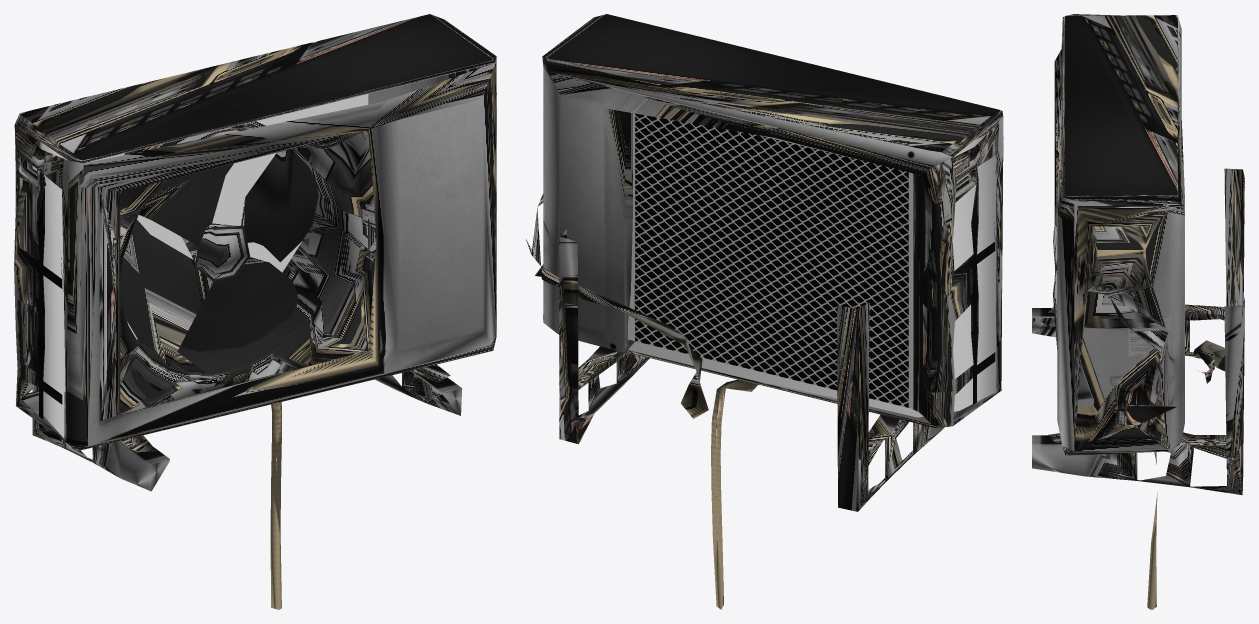
The model's file is exterior_aircon_unit_game.gltf.
3 renders of one model, left to right at view 1: azimuth 30°, elevation 25°; view 2: azimuth 150°, elevation 25°; view 3: azimuth 270°, elevation 25°, orthographic. The views are drawn at different scales.
Visible parts, largest first — view 1: exterior_aircon_unit; view 2: exterior_aircon_unit; view 3: exterior_aircon_unit.
Boxes of the visible parts, x1,y1,x2,y2 form: exterior_aircon_unit: [14, 14, 496, 609]; exterior_aircon_unit: [526, 14, 1003, 609]; exterior_aircon_unit: [1032, 14, 1244, 609].
Size of the model in its own units: 0.7803 by 0.9169 by 0.3632.
Materials: 2 (2 with a texture image).
